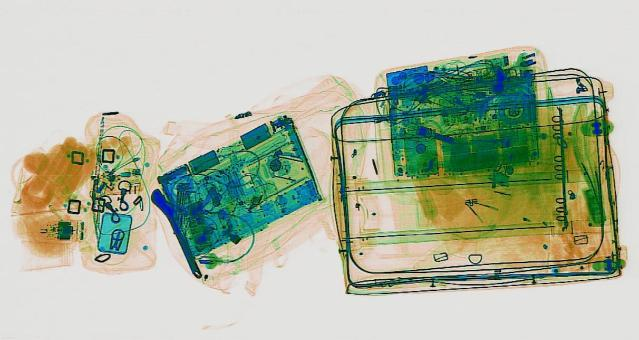Wrench: (143, 186, 210, 277)
